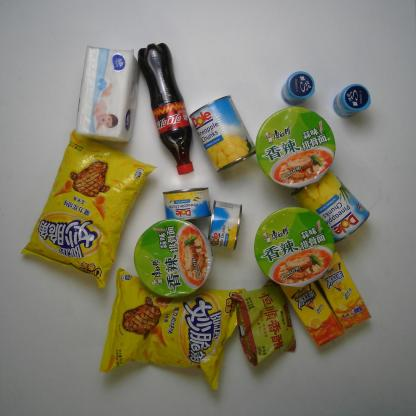Canned Food: (288, 162, 372, 245), (184, 92, 260, 177), (160, 185, 214, 224), (206, 197, 244, 252)
Drink: (134, 39, 196, 178), (277, 276, 348, 350), (313, 249, 373, 332)
Gum: (332, 83, 372, 122), (280, 71, 317, 106)
Instant Noodles: (251, 103, 339, 191), (253, 204, 337, 290), (132, 217, 216, 301)
Puffed Food: (16, 123, 160, 292), (97, 264, 250, 394)
Seasoner: (230, 276, 297, 368)
Tissue: (70, 42, 145, 146)
